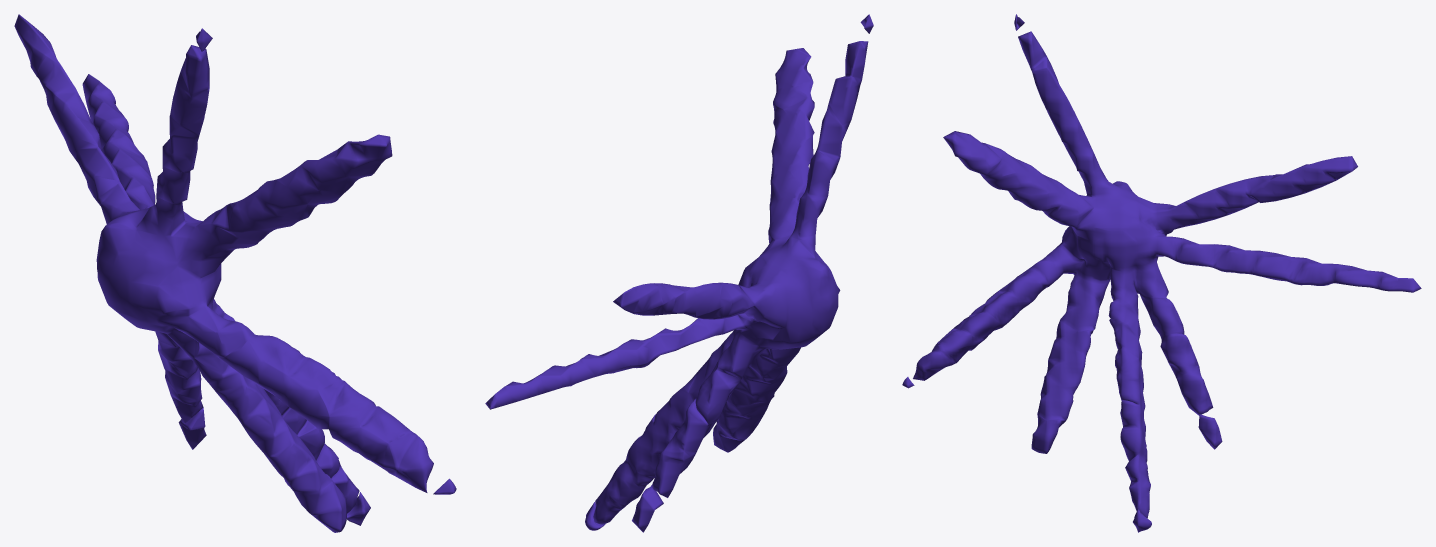
The model's file is sunbg.gltf.
3 views of the same model, side by side, from view 1: azimuth 30°, elevation 25°; view 2: azimuth 150°, elevation 25°; view 3: azimuth 270°, elevation 25° (orthographic). The views are drawn at different scales.
Parts seen in each view (by area): view 1: Mball.006; view 2: Mball.006; view 3: Mball.006.
Boxes of the visible parts, x1,y1,x2,y2 form: Mball.006: [14, 14, 456, 532]; Mball.006: [485, 14, 873, 532]; Mball.006: [902, 14, 1421, 532].
Bounding box in the file's own units: 14.73 × 30.7 × 33.22.
